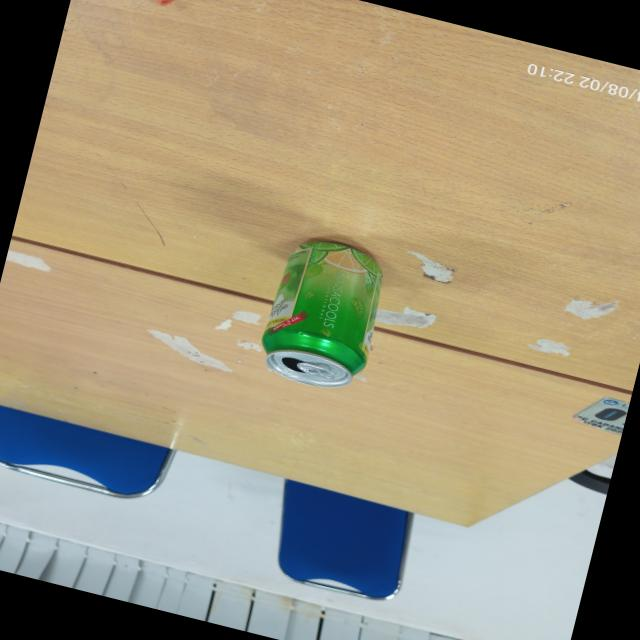ademsarikaleng: (252, 230, 395, 398)
